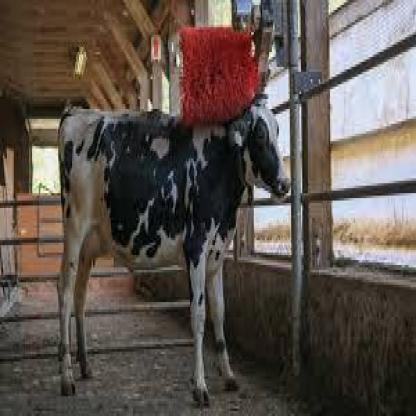cow: (56, 96, 292, 408)
